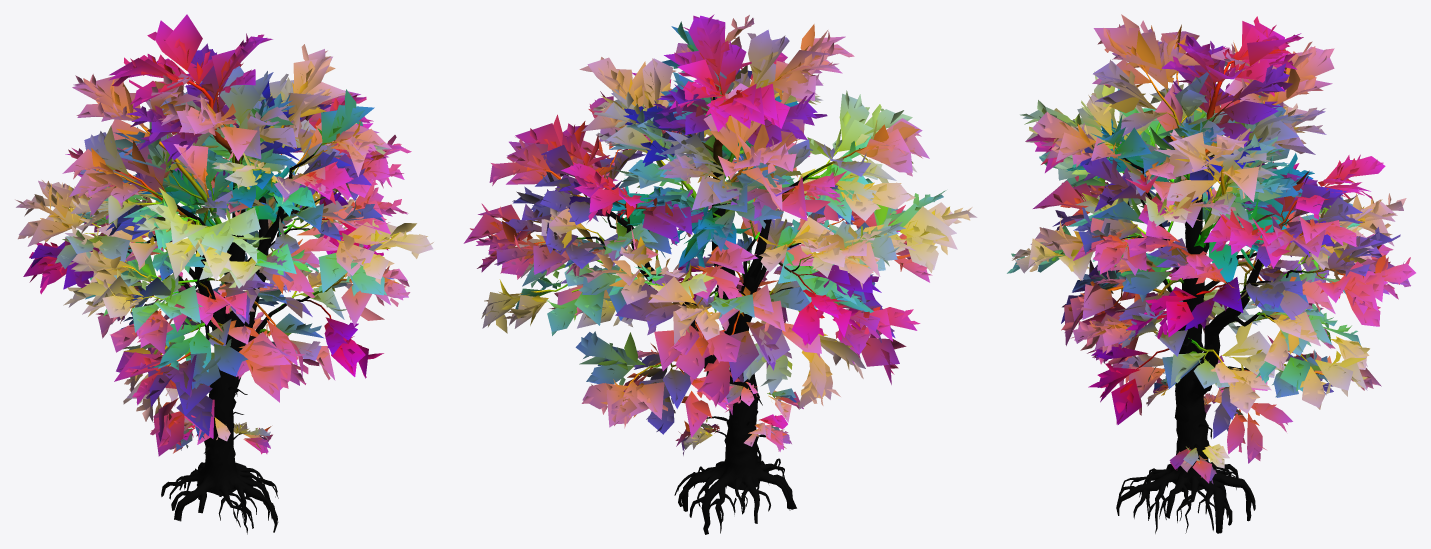
Rendered from SM_EuropeanBeech_XL_02.fbx.
3 renders of one model, left to right at view 1: azimuth 30°, elevation 25°; view 2: azimuth 150°, elevation 25°; view 3: azimuth 270°, elevation 25°, orthographic. The views are drawn at different scales.
Parts seen in each view (by area): view 1: SM_EuropeanBeech_XL_02_LOD0; view 2: SM_EuropeanBeech_XL_02_LOD0; view 3: SM_EuropeanBeech_XL_02_LOD0.
Part boxes in pixels (x1,y1,x2,y2): SM_EuropeanBeech_XL_02_LOD0: (15, 14, 433, 534); SM_EuropeanBeech_XL_02_LOD0: (463, 14, 977, 534); SM_EuropeanBeech_XL_02_LOD0: (1007, 14, 1415, 533).
Size of what is drawn, in the model's own units: 1841 by 1734 by 2321.
